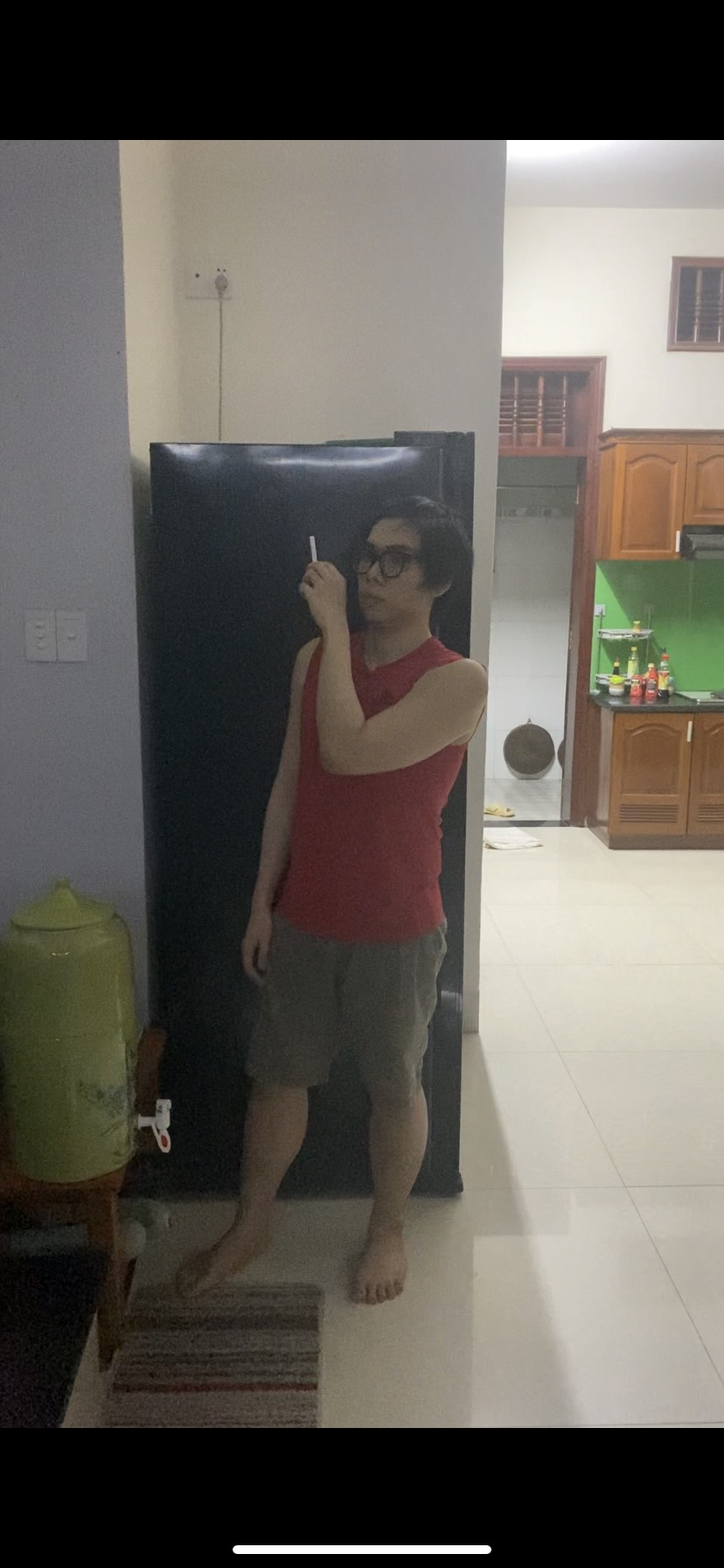cigarette: (304, 530, 324, 563)
person: (205, 506, 490, 1345)
